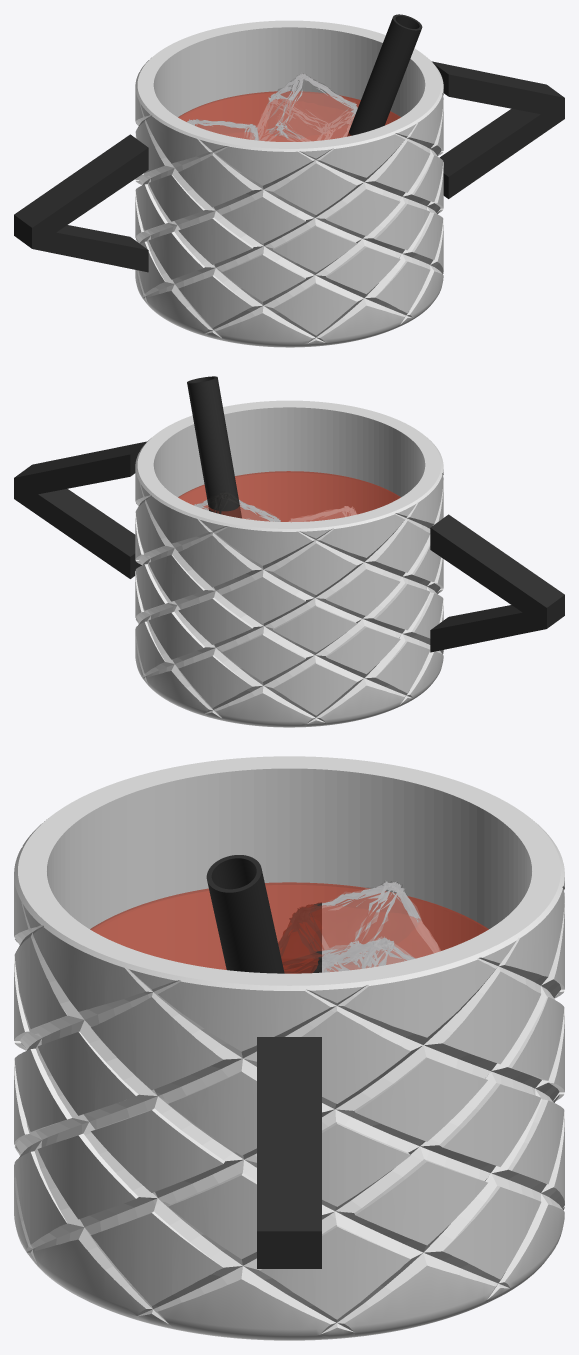
File: glass2.glb
3 views of the same model, one above another, from view 1: azimuth 30°, elevation 25°; view 2: azimuth 150°, elevation 25°; view 3: azimuth 270°, elevation 25° (orthographic). The views are drawn at different scales.
Visible parts, largest first — view 1: Tumbler, Text, Cylinder.002, Cube.004, Cylinder.001, Cube.003; view 2: Tumbler, Text, Cylinder.002, Cylinder.001, Cube.004; view 3: Tumbler, Cylinder.002, Text, Cube.003, Cylinder.001, Cube.004.
Part boxes in pixels (x1,y1,x2,y2): Tumbler: [135, 20, 443, 347]; Text: [14, 61, 564, 272]; Cylinder.002: [178, 91, 400, 141]; Cube.004: [257, 73, 357, 141]; Cylinder.001: [347, 14, 422, 136]; Cube.003: [187, 119, 258, 140]; Tumbler: [135, 400, 443, 727]; Text: [14, 441, 564, 652]; Cylinder.002: [178, 471, 400, 521]; Cylinder.001: [187, 376, 241, 518]; Cube.004: [194, 491, 280, 521]; Tumbler: [14, 756, 564, 1340]; Cylinder.002: [90, 882, 488, 973]; Text: [257, 902, 321, 1268]; Cube.003: [278, 880, 439, 972]; Cylinder.001: [206, 855, 284, 973]; Cube.004: [311, 937, 414, 972].
Size of the model in its own units: 3.98 by 1.82 by 2.
